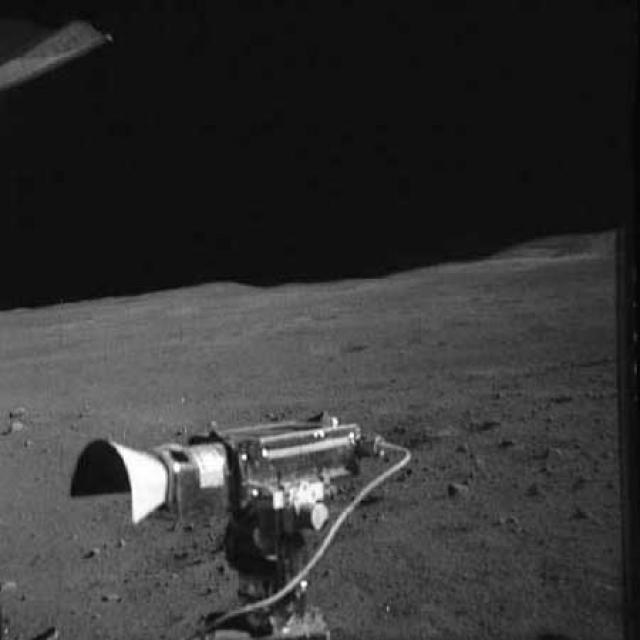crater: (434, 412, 510, 447), (312, 334, 370, 363)
rock: (494, 508, 530, 536), (571, 500, 601, 524), (442, 480, 472, 502), (96, 586, 126, 606), (0, 574, 27, 596), (3, 399, 32, 419), (498, 430, 526, 450), (564, 469, 592, 489), (8, 417, 30, 438), (81, 540, 102, 561), (528, 476, 548, 497), (106, 533, 133, 548), (544, 443, 562, 462), (490, 386, 513, 399)
